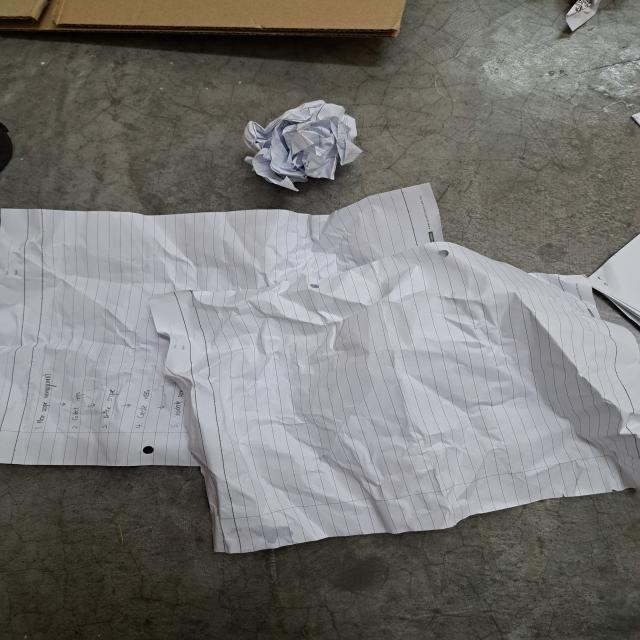cardboard: (0, 0, 414, 47)
paper: (0, 183, 640, 553), (242, 95, 360, 186)
